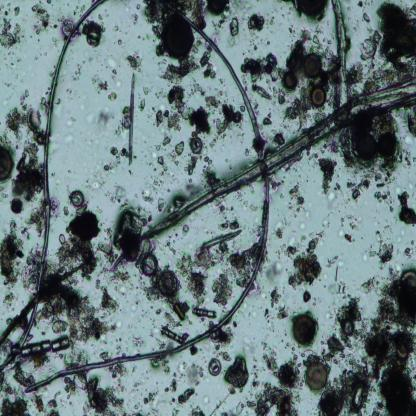Background material: (367, 284, 416, 414), (84, 233, 134, 296), (47, 290, 106, 343), (378, 0, 416, 73), (322, 364, 372, 416), (282, 235, 324, 288), (250, 380, 302, 416), (11, 144, 44, 198), (55, 237, 97, 277), (122, 73, 139, 171), (86, 378, 127, 415), (0, 219, 21, 288), (200, 220, 242, 253), (112, 204, 141, 248), (221, 242, 256, 278), (186, 1, 230, 29), (222, 352, 250, 396), (139, 166, 166, 206), (22, 245, 43, 293), (240, 52, 277, 79), (260, 340, 284, 378), (209, 272, 235, 306), (317, 158, 340, 196), (182, 270, 212, 299), (142, 1, 170, 32), (68, 215, 100, 242), (160, 60, 201, 81), (199, 155, 225, 188), (0, 16, 24, 49), (186, 108, 213, 137), (29, 2, 52, 36), (2, 106, 28, 136), (376, 171, 394, 214), (221, 103, 245, 134), (152, 108, 181, 133), (166, 86, 191, 114), (336, 298, 365, 322), (368, 240, 396, 264), (285, 185, 308, 214), (0, 394, 33, 414), (332, 209, 359, 233), (398, 190, 416, 226), (346, 177, 372, 201), (280, 362, 300, 392), (178, 365, 204, 387), (27, 206, 46, 236), (101, 146, 121, 174), (63, 373, 86, 397), (96, 292, 119, 316), (166, 301, 191, 323), (132, 388, 159, 408), (67, 58, 84, 88), (64, 347, 88, 368), (105, 52, 122, 81), (245, 12, 267, 34), (208, 396, 232, 416), (149, 357, 171, 378), (14, 364, 34, 387), (200, 50, 217, 77), (95, 110, 113, 135), (211, 203, 239, 219), (0, 372, 18, 396), (86, 173, 104, 194), (324, 252, 342, 273), (212, 331, 233, 349), (250, 352, 261, 386), (362, 278, 380, 298), (178, 384, 196, 404), (246, 36, 268, 52), (89, 74, 109, 91), (226, 14, 240, 38), (184, 155, 199, 177), (125, 54, 142, 73), (372, 221, 392, 237), (47, 396, 63, 416), (66, 116, 77, 145), (255, 109, 271, 128), (354, 7, 370, 26), (3, 291, 17, 312), (329, 280, 347, 296), (269, 128, 285, 146), (32, 394, 47, 413), (203, 95, 222, 110), (401, 241, 414, 262), (173, 140, 185, 161), (269, 285, 280, 307), (261, 307, 273, 327), (128, 10, 142, 26), (109, 364, 125, 378), (168, 396, 179, 416), (16, 89, 30, 104), (163, 379, 178, 392), (190, 404, 206, 416), (272, 225, 284, 240), (302, 290, 314, 305), (62, 18, 73, 34), (191, 84, 204, 97), (344, 232, 356, 246), (277, 306, 288, 321), (106, 91, 120, 102), (323, 215, 332, 231), (156, 198, 166, 212), (5, 80, 16, 92), (153, 304, 162, 318), (141, 83, 150, 97), (156, 156, 166, 168), (139, 99, 146, 112), (118, 36, 125, 48), (301, 222, 308, 234), (63, 205, 70, 217), (53, 34, 59, 47), (52, 99, 63, 106)
Cellulose filter fibre: (106, 165, 261, 269), (265, 74, 416, 169), (330, 1, 349, 152)
Diatom: (161, 15, 195, 62), (18, 333, 70, 358), (290, 312, 319, 348), (305, 360, 329, 392), (356, 132, 378, 164), (294, 0, 332, 18), (302, 52, 325, 81), (159, 269, 180, 299), (0, 143, 15, 183), (378, 131, 398, 160), (27, 106, 44, 134), (250, 81, 274, 100), (192, 304, 220, 320), (310, 84, 328, 108), (400, 267, 416, 291), (281, 70, 300, 90), (141, 253, 159, 274), (195, 245, 211, 268), (162, 327, 184, 343), (328, 336, 346, 354), (360, 39, 376, 59), (87, 27, 102, 48), (10, 196, 26, 215), (188, 137, 203, 156), (70, 191, 86, 207), (208, 357, 221, 376), (342, 319, 355, 337), (234, 400, 245, 416), (272, 63, 280, 85), (75, 204, 89, 215), (181, 221, 190, 236), (59, 233, 67, 244)
Microfibre: (24, 1, 291, 393), (1, 0, 124, 368)
